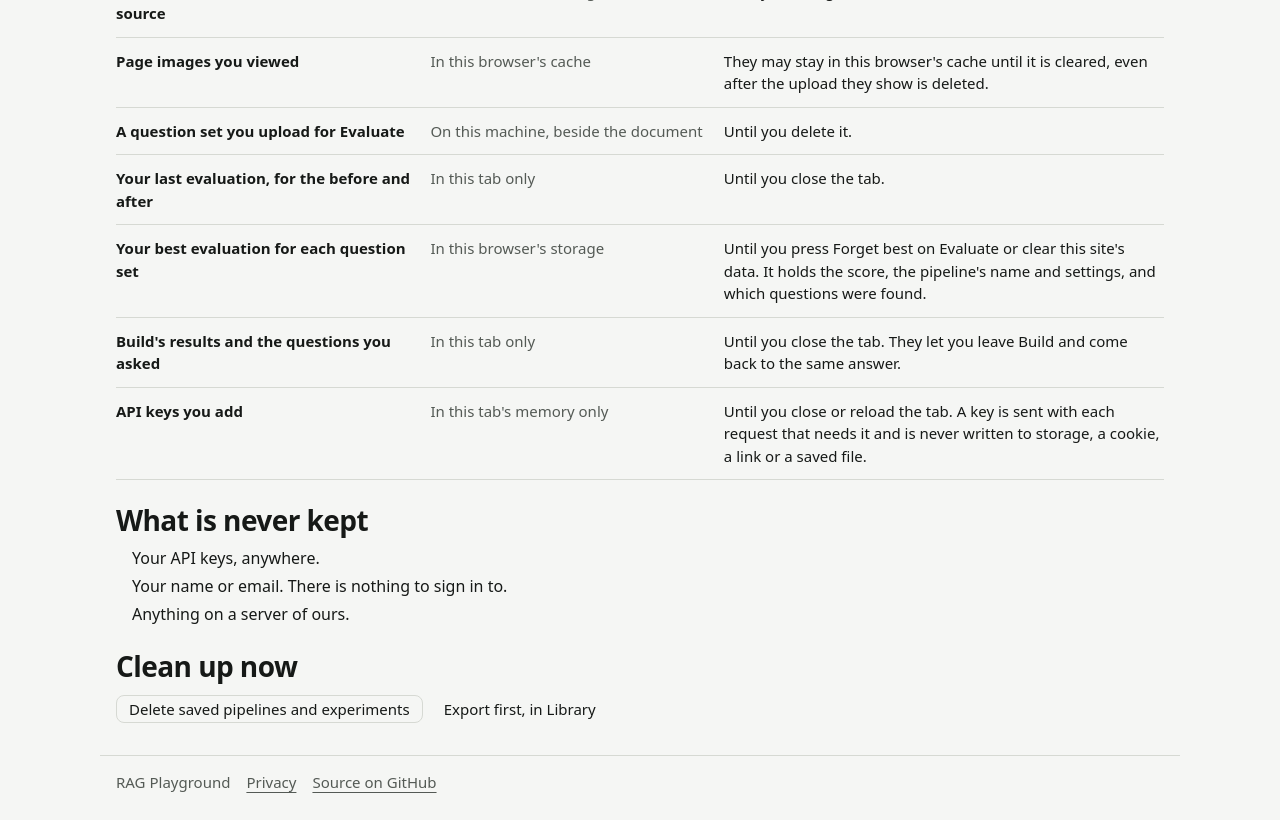
it: Your data and privacy › asks on the page before deleting saved pipelines and experiments, then clears both
This screenshot has width=1280, height=820.
(page scrolled)
Click the button "Delete saved pipelines and experiments" at (269, 709), box [116, 695, 423, 723]
(page scrolled)
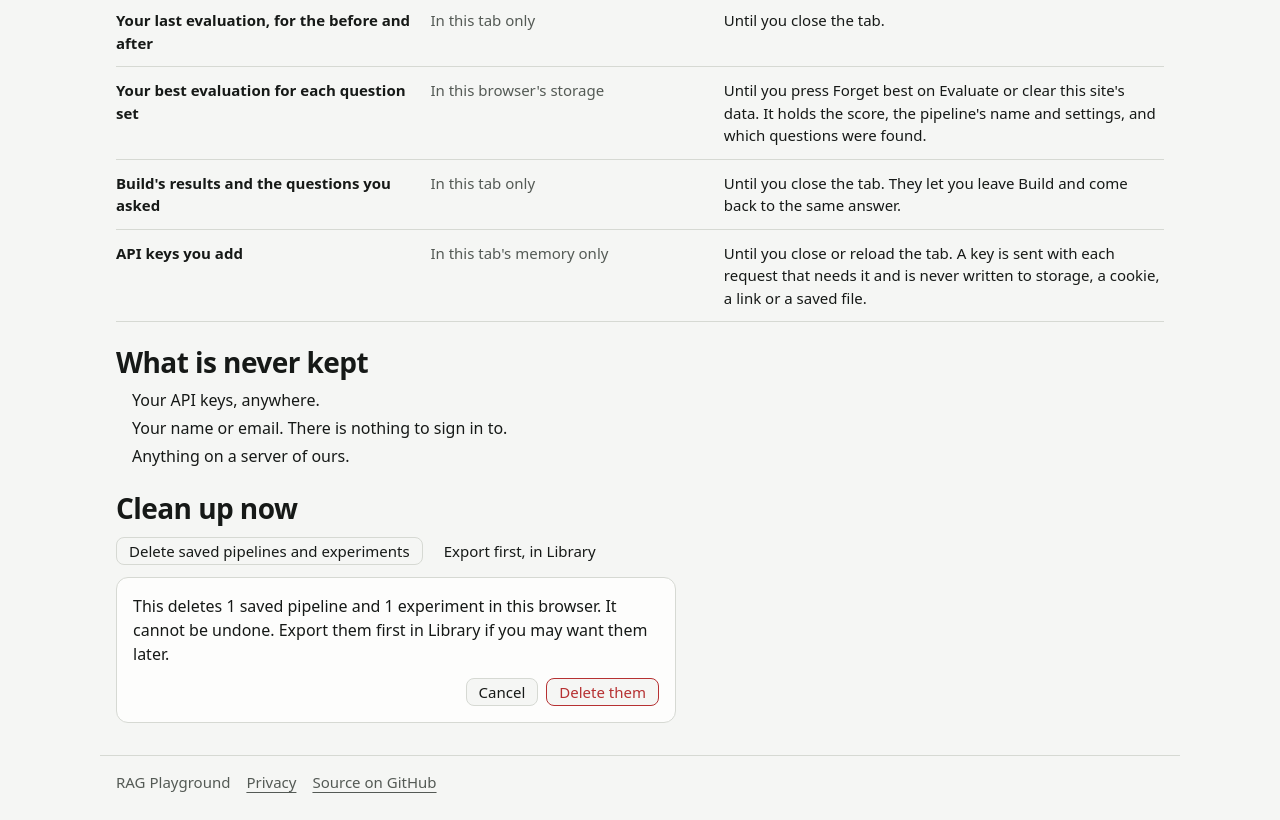
expect the element named "Confirm deleting saved items" shows "1 saved pipeline and 1 experiment": met, box [226, 595, 484, 617]
Click the button "Delete them" at (603, 692), box [546, 678, 659, 706]
(page scrolled)
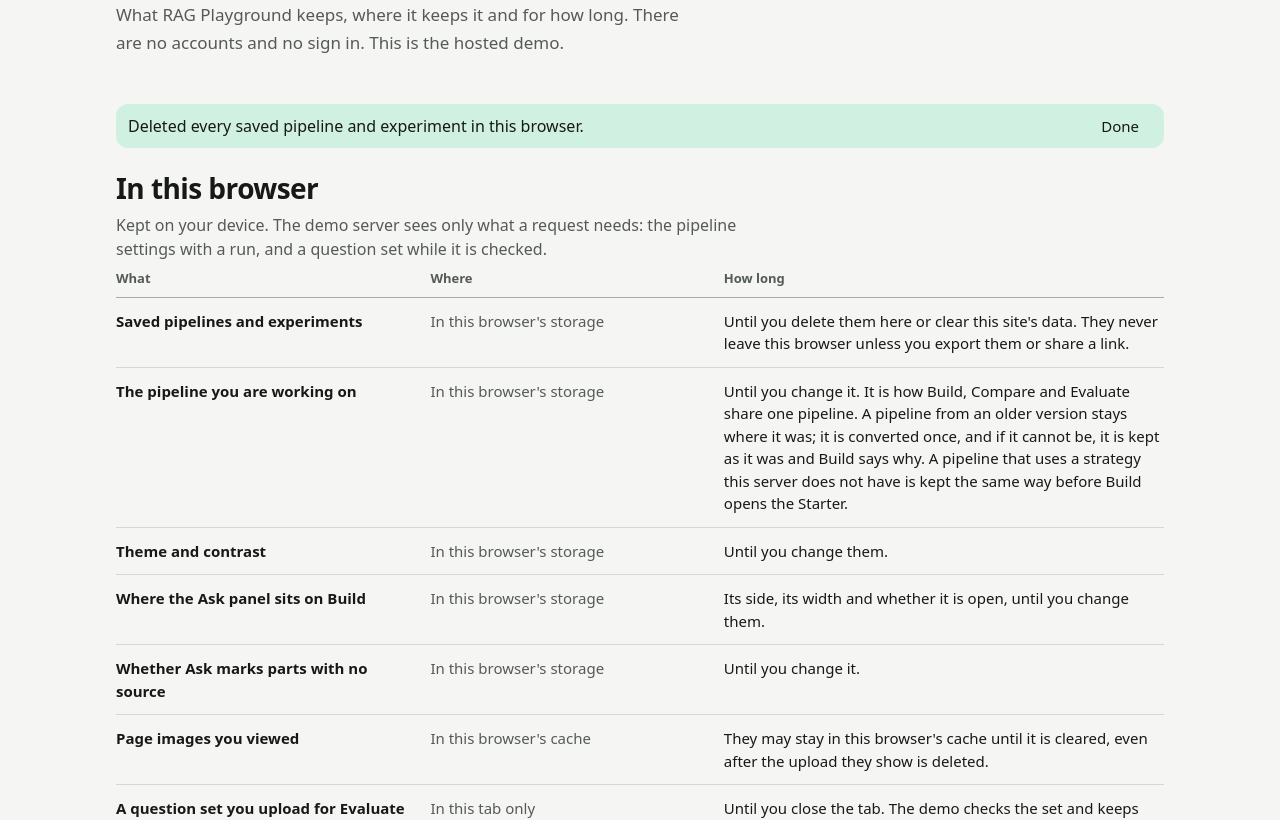
expect the text "Deleted every saved pipeline and experiment in this browser." is shown: met, box [128, 115, 584, 137]
